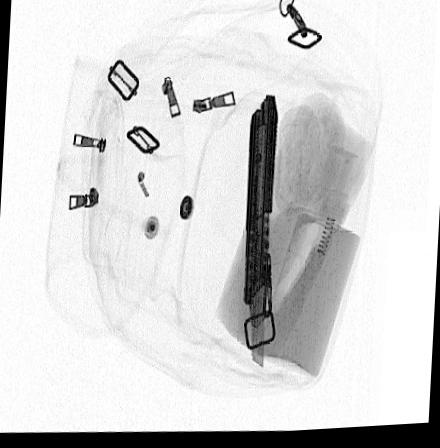Knife: (241, 98, 277, 371)
